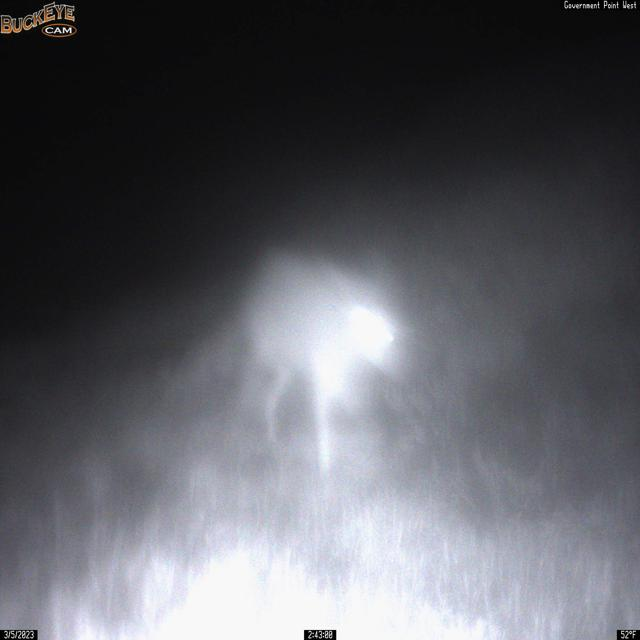coyote: (237, 246, 408, 482)
